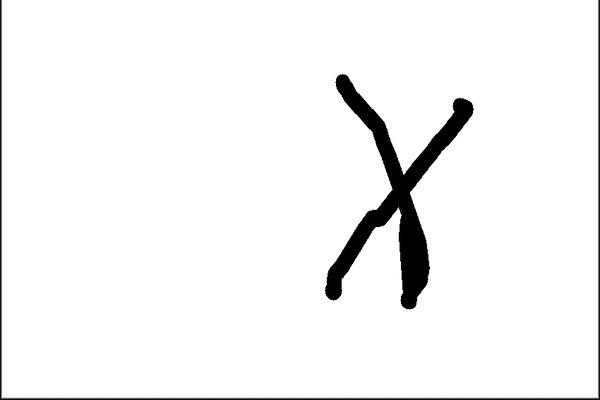X: (292, 61, 477, 327)
